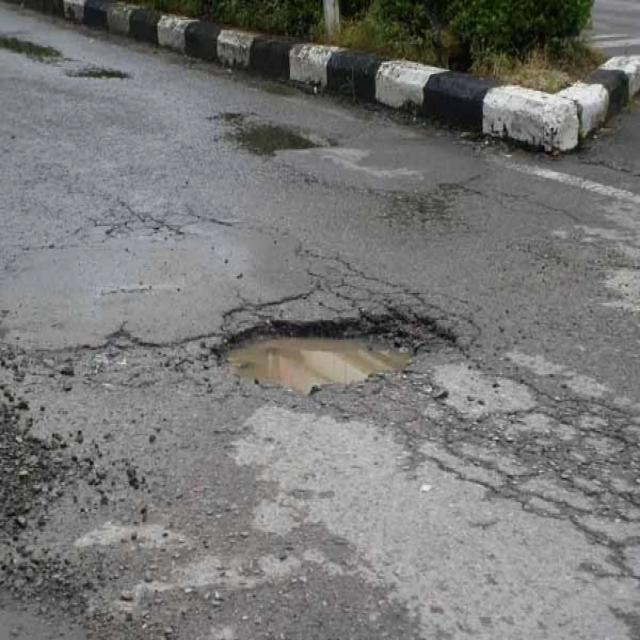Pothole: (228, 309, 455, 394)
